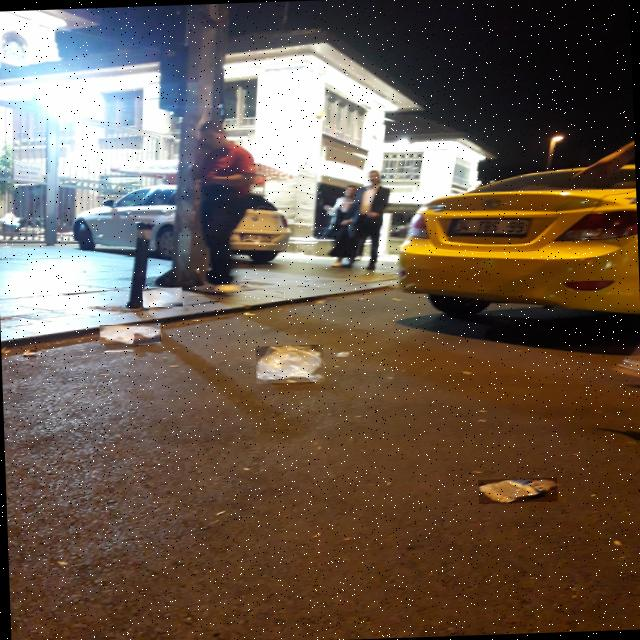Clear plastic bottle: (479, 479, 557, 503)
Plastic film: (257, 346, 323, 381), (100, 325, 159, 344), (143, 288, 181, 306)
Unlabeled litter: (24, 349, 36, 356), (336, 352, 348, 356)
